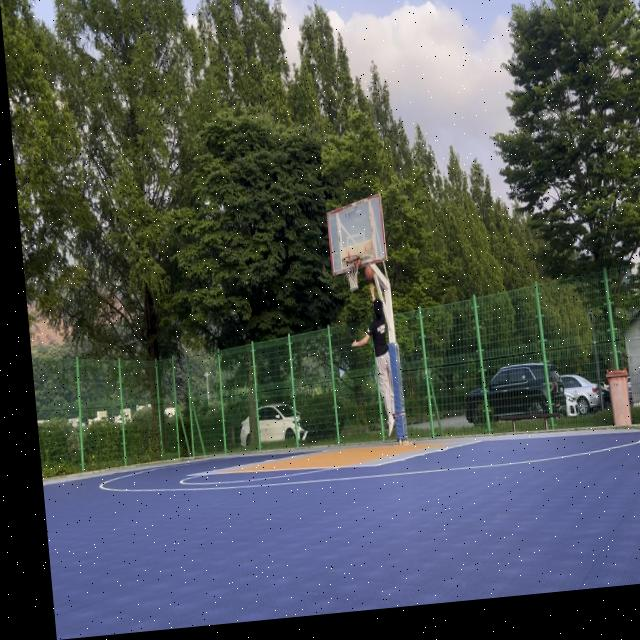basketball: (364, 265, 375, 282)
hoop: (341, 254, 363, 294)
